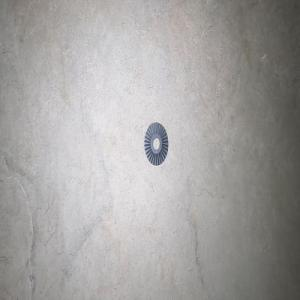Washer: (144, 122, 168, 165)
